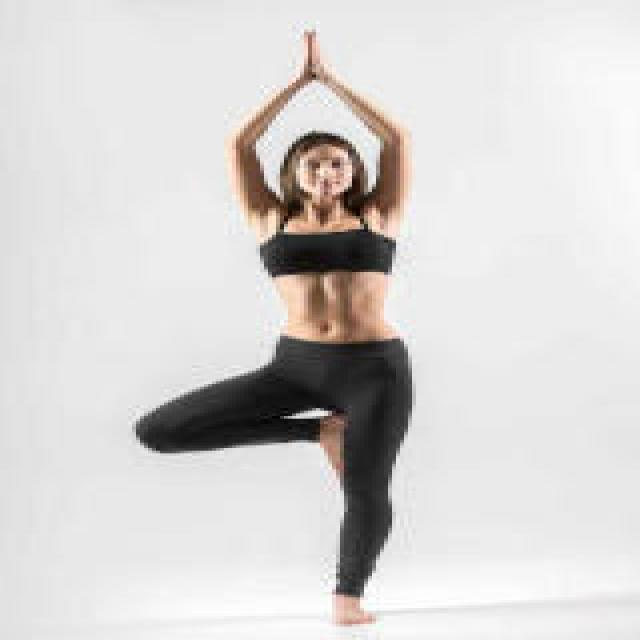yoga-pose tree: (125, 25, 427, 631)
